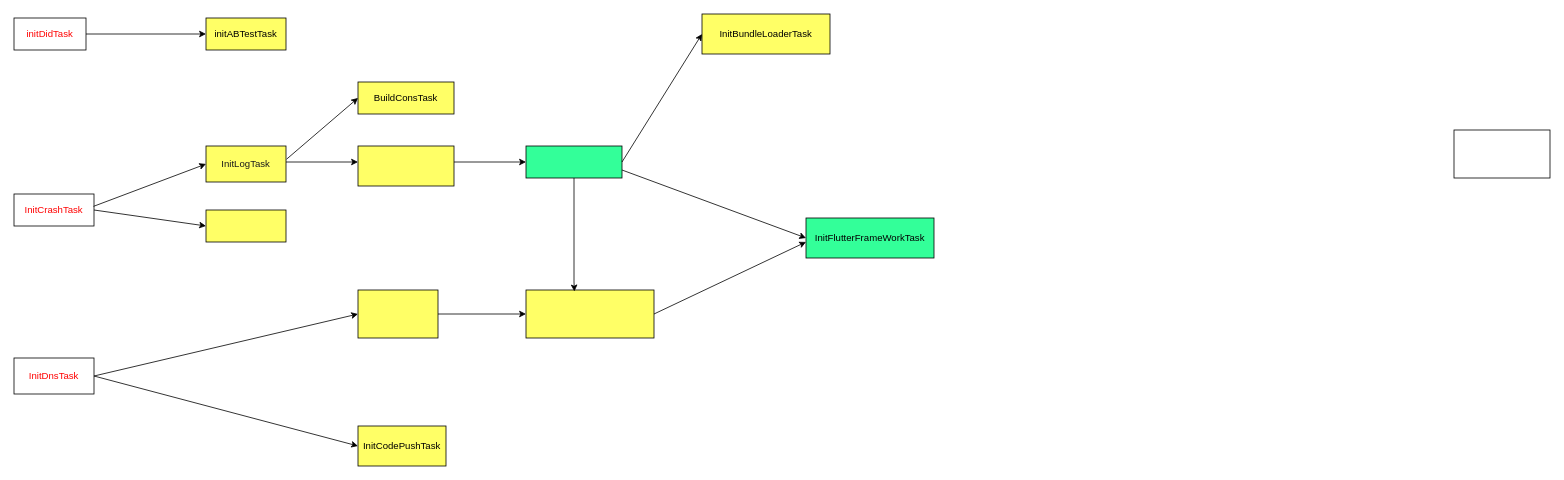
This 1564x480 diagram has some shape labels left out. The box of each missing label's shape, as (x1, y1, x2, y2) in pixels:
ClearCacheTask: (205, 209, 286, 242)
InitBankControllerTask: (525, 289, 654, 338)
InitControllerTask: (357, 145, 454, 186)
InitI18nTask: (357, 289, 438, 338)
InitStackTask: (525, 145, 622, 178)
